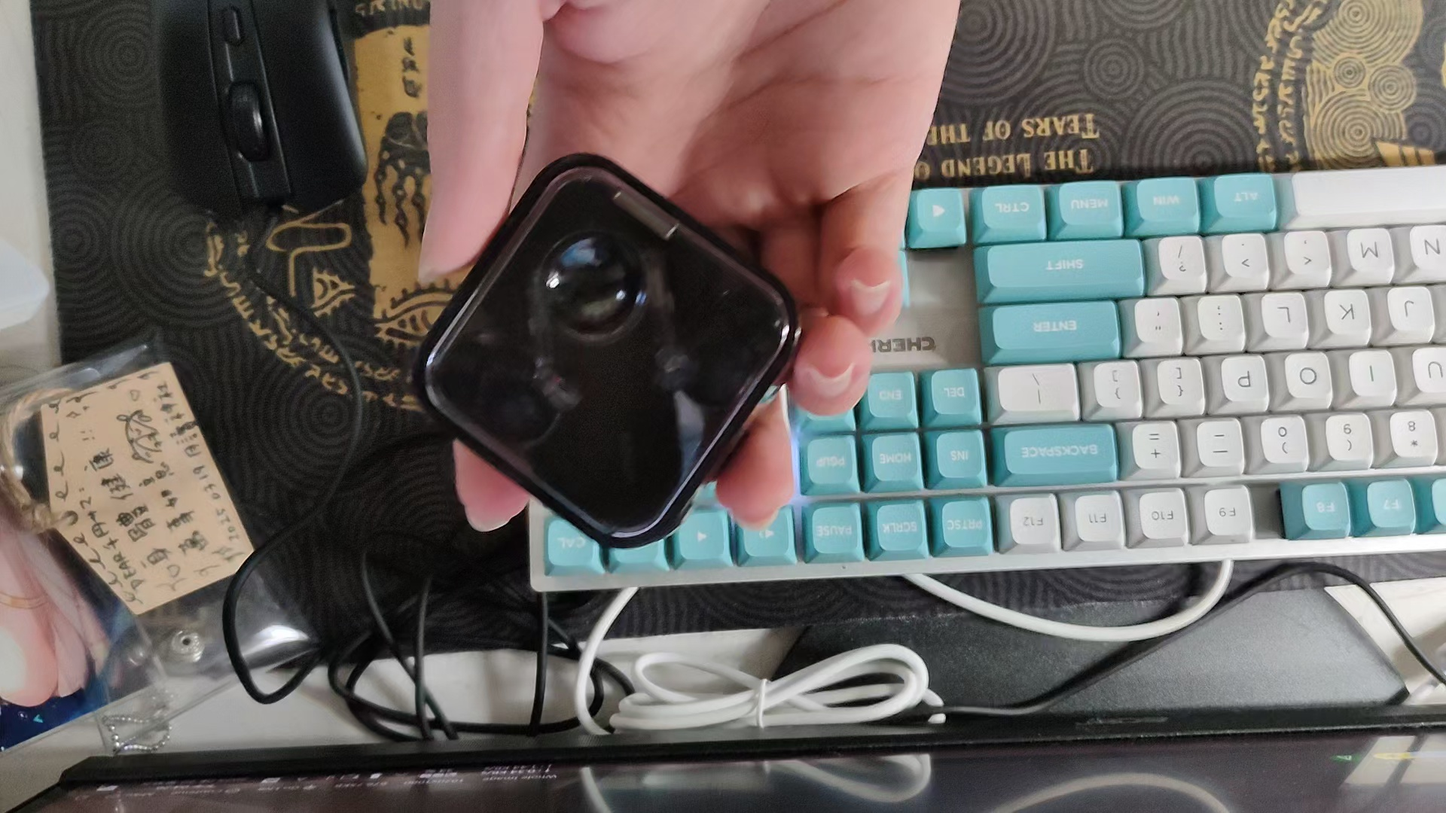Wireless_earphone: (413, 151, 804, 549)
